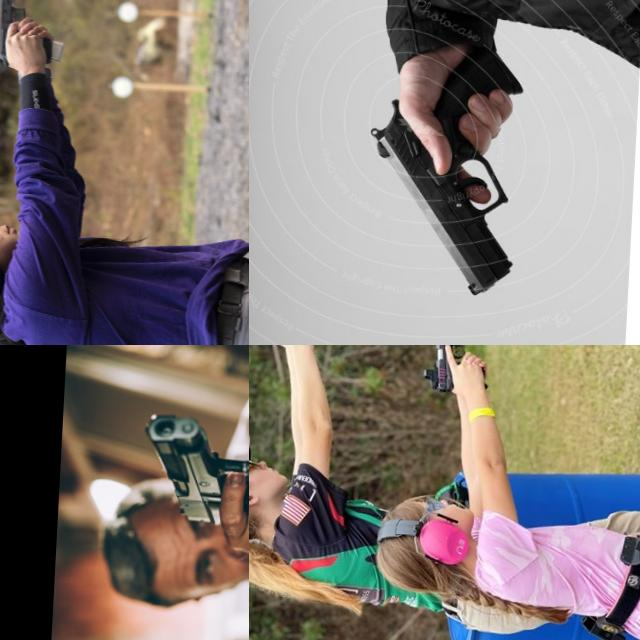handgun: (356, 28, 532, 298), (136, 409, 249, 528), (0, 0, 68, 72), (418, 345, 497, 398), (249, 345, 327, 395)
